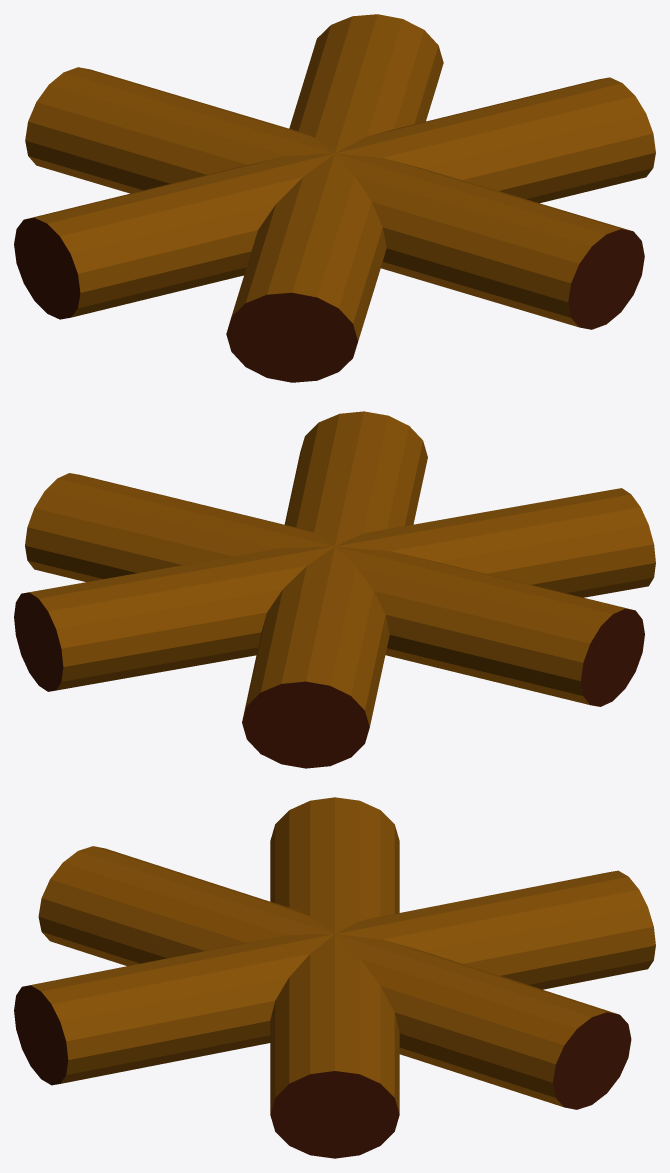
The model's file is IsometricTile_Dark_BonFire.fbx.
The picture shows the model from 3 angles, top to bottom: view 1: azimuth 30°, elevation 25°; view 2: azimuth 150°, elevation 25°; view 3: azimuth 270°, elevation 25°; orthographic projection. The views are drawn at different scales.
Visible parts, largest first — view 1: Cylinder.002; view 2: Cylinder.002; view 3: Cylinder.002.
Part boxes in pixels (x1=…): Cylinder.002: x1=14, y1=14, x2=655, y2=382; Cylinder.002: x1=14, y1=411, x2=655, y2=768; Cylinder.002: x1=14, y1=797, x2=655, y2=1158.
Size of the model in its own units: 0.558 by 0.5627 by 0.0842.
